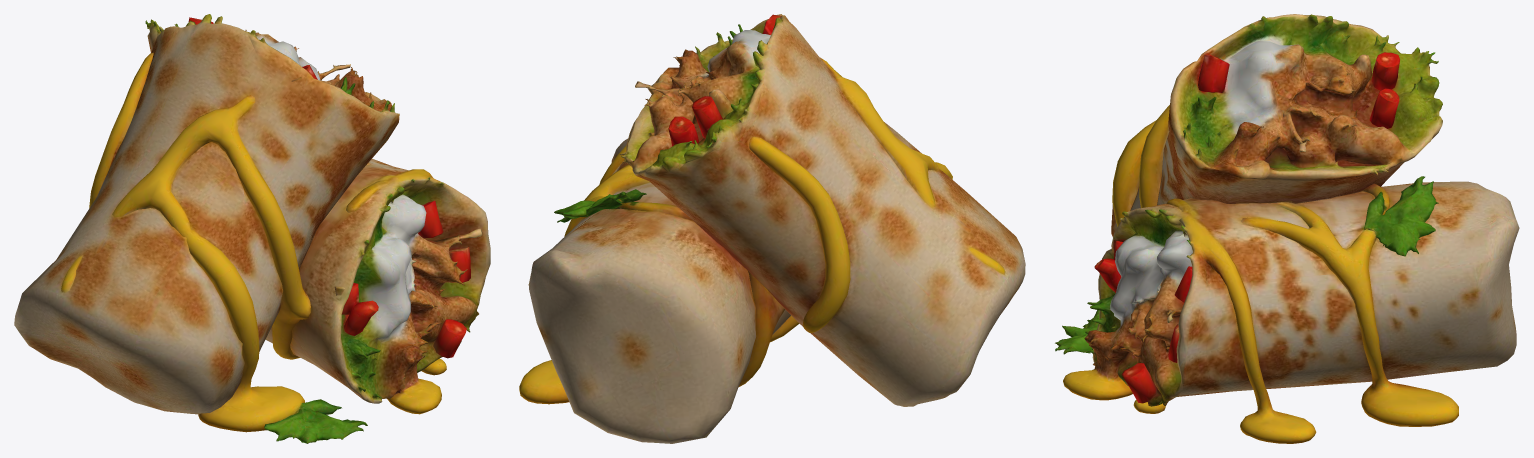
Rendered from 1783145305_boti roll compressed.glb.
3 renders of one model, left to right at view 1: azimuth 30°, elevation 25°; view 2: azimuth 150°, elevation 25°; view 3: azimuth 270°, elevation 25°, orthographic. The views are drawn at different scales.
Parts seen in each view (by area): view 1: tripo_node_1015f4ee-9a54-4d09-8a78-6dc5f3cbcc7d; view 2: tripo_node_1015f4ee-9a54-4d09-8a78-6dc5f3cbcc7d; view 3: tripo_node_1015f4ee-9a54-4d09-8a78-6dc5f3cbcc7d.
Part boxes in pixels (x1,y1,x2,y2): tripo_node_1015f4ee-9a54-4d09-8a78-6dc5f3cbcc7d: (14,14,490,443); tripo_node_1015f4ee-9a54-4d09-8a78-6dc5f3cbcc7d: (519,14,1025,443); tripo_node_1015f4ee-9a54-4d09-8a78-6dc5f3cbcc7d: (1055,14,1519,443).
Size of the model in its own units: 0.998 by 0.7872 by 0.9746.
Materials: 1 (1 with a texture image).
